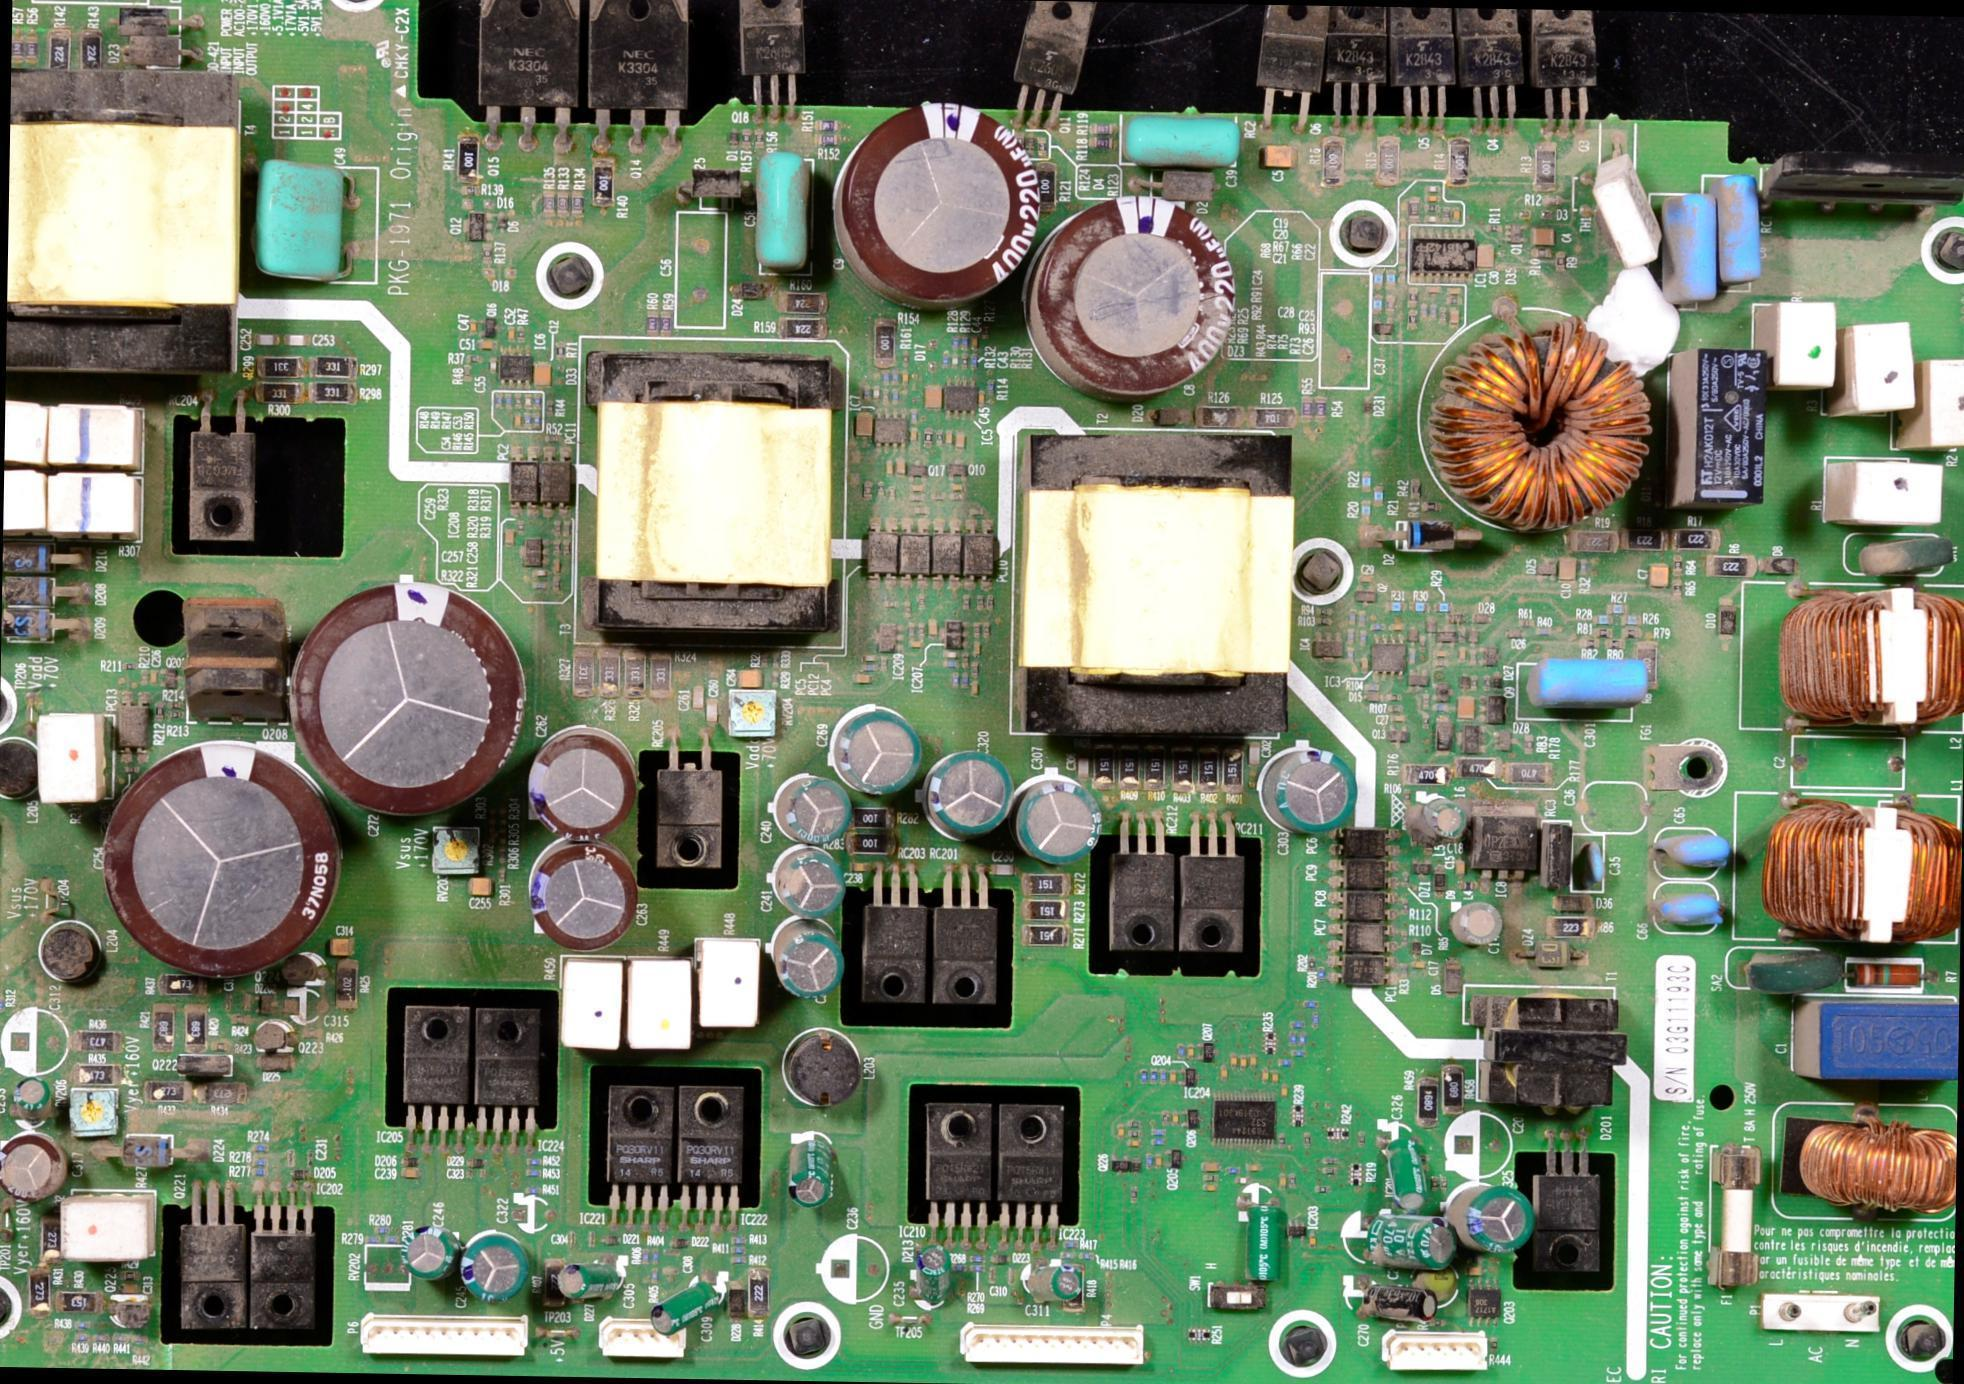Capacitor: (102, 752, 331, 978), (296, 580, 520, 805), (830, 104, 1040, 302), (1040, 187, 1219, 382), (1671, 340, 1775, 515), (252, 156, 374, 277), (1789, 997, 1958, 1084), (525, 834, 639, 947), (527, 732, 631, 833), (1013, 775, 1102, 865), (1265, 743, 1353, 834), (826, 708, 916, 795), (1657, 190, 1726, 303), (750, 148, 811, 274), (1701, 172, 1765, 289), (1517, 660, 1644, 715), (1123, 113, 1242, 169), (926, 755, 1006, 831), (770, 843, 842, 922), (1450, 1187, 1536, 1251), (457, 1227, 527, 1304), (777, 778, 852, 846), (777, 921, 841, 1001), (1371, 1211, 1451, 1271), (0, 1129, 64, 1206), (1407, 226, 1479, 286), (782, 1127, 833, 1211), (649, 1284, 721, 1340), (1243, 1205, 1293, 1287), (1382, 1138, 1431, 1217), (1370, 1284, 1441, 1330), (1657, 834, 1723, 880), (398, 1226, 456, 1278), (563, 1262, 629, 1306), (1653, 892, 1726, 932), (1021, 1262, 1081, 1307), (913, 1245, 953, 1305), (1453, 903, 1504, 949), (1419, 798, 1468, 845), (13, 1075, 55, 1120), (1574, 837, 1605, 896), (1414, 1262, 1454, 1298), (326, 929, 359, 961), (919, 383, 947, 416), (463, 874, 497, 900), (531, 352, 551, 391), (851, 410, 874, 437), (1556, 556, 1576, 582), (1454, 696, 1476, 721), (1647, 565, 1667, 588), (497, 525, 516, 552), (1406, 935, 1424, 959), (1409, 958, 1430, 974), (399, 1169, 421, 1180), (1358, 571, 1373, 586)
IC: (992, 1102, 1073, 1258), (470, 996, 548, 1153), (922, 1095, 1001, 1246), (396, 1001, 471, 1127), (676, 1081, 741, 1223), (599, 1077, 670, 1209), (1468, 808, 1536, 881), (1207, 1090, 1279, 1145), (1364, 634, 1405, 681), (494, 345, 535, 392), (870, 406, 909, 455), (947, 379, 982, 421), (1309, 629, 1347, 666), (874, 620, 897, 659), (941, 620, 967, 655)
Resistor: (68, 1024, 130, 1056), (775, 287, 831, 322), (451, 131, 483, 189), (1113, 744, 1146, 799), (592, 642, 622, 701), (742, 1265, 772, 1323), (867, 315, 899, 369), (773, 316, 835, 343), (327, 960, 361, 1008), (1020, 920, 1069, 952), (1197, 402, 1246, 434), (1318, 134, 1347, 188), (1142, 746, 1169, 804), (1849, 965, 1918, 987), (1019, 897, 1075, 924), (35, 1213, 63, 1267), (647, 649, 675, 701), (565, 645, 592, 700), (845, 804, 896, 833), (843, 828, 894, 857), (1565, 533, 1623, 558), (139, 1075, 187, 1105), (1167, 747, 1194, 798), (1019, 871, 1069, 899), (1440, 1065, 1465, 1119), (1529, 143, 1557, 193), (589, 157, 615, 208), (621, 644, 644, 704), (71, 1060, 120, 1088), (1416, 1077, 1439, 1132), (1665, 528, 1720, 553), (1088, 748, 1117, 791), (52, 1290, 100, 1316), (1374, 138, 1401, 186), (258, 380, 306, 407), (1624, 527, 1672, 554), (1261, 141, 1299, 175), (26, 1268, 54, 1313), (1249, 404, 1296, 432), (259, 355, 306, 381), (1706, 556, 1753, 581), (1222, 746, 1245, 798), (1195, 750, 1219, 799), (148, 1006, 174, 1052), (308, 356, 352, 382), (309, 380, 352, 406), (1502, 762, 1547, 787), (48, 27, 73, 67), (187, 1007, 209, 1049), (1551, 915, 1590, 939), (1444, 139, 1467, 180), (1457, 757, 1497, 777), (1407, 766, 1449, 785), (84, 32, 101, 74), (1310, 392, 1330, 425), (1527, 226, 1556, 248), (11, 28, 26, 65), (659, 307, 675, 339), (1293, 395, 1311, 424), (646, 308, 662, 337), (569, 190, 584, 218), (556, 190, 571, 217), (23, 33, 36, 60), (542, 191, 556, 217), (1359, 499, 1372, 523), (1578, 638, 1602, 651), (1619, 613, 1645, 624), (1622, 625, 1645, 638), (1314, 604, 1334, 618), (1373, 484, 1384, 506), (1603, 602, 1626, 614), (1523, 735, 1535, 757), (1605, 638, 1628, 649), (1361, 470, 1371, 492), (1383, 692, 1402, 702), (1594, 613, 1609, 626), (1593, 628, 1611, 638), (1314, 616, 1331, 626), (1386, 704, 1403, 713), (154, 700, 163, 716)
Transistor: (577, 0, 689, 153), (472, 0, 583, 143), (1251, 5, 1327, 135), (1531, 10, 1601, 151), (731, 0, 808, 127), (1325, 6, 1392, 149), (1451, 8, 1518, 147), (1387, 7, 1454, 134), (1015, 22, 1084, 137), (1459, 1276, 1506, 1328), (458, 212, 491, 246), (1460, 720, 1488, 757), (942, 460, 971, 489), (1480, 693, 1505, 723), (1403, 668, 1434, 690), (902, 458, 927, 484), (1384, 725, 1412, 743)
